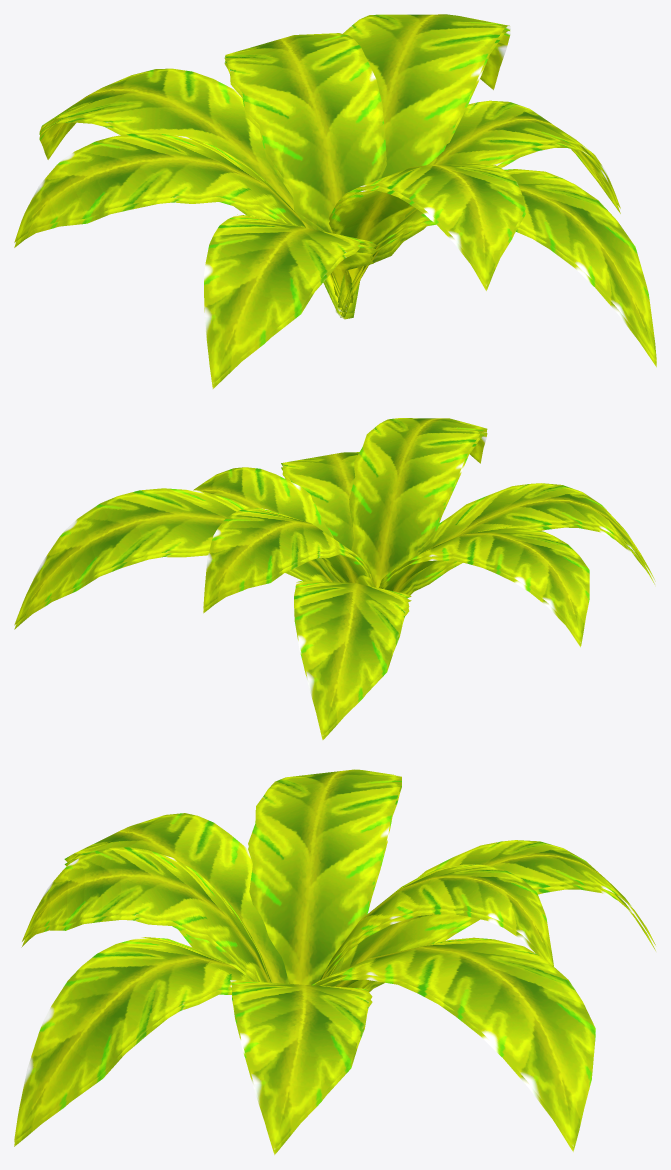
Rendered from SM-Plants-06.FBX.
3 views of the same model, one above another, from view 1: azimuth 30°, elevation 25°; view 2: azimuth 150°, elevation 25°; view 3: azimuth 270°, elevation 25° (orthographic). The views are drawn at different scales.
Parts seen in each view (by area): view 1: SM-Plants-06; view 2: SM-Plants-06; view 3: SM-Plants-06.
Boxes of the visible parts, bbox=[...] form: SM-Plants-06: bbox=[14, 14, 656, 389]; SM-Plants-06: bbox=[14, 418, 655, 740]; SM-Plants-06: bbox=[14, 769, 655, 1155].
Size of the model in its own units: 174 by 166 by 59.2.
Materials: 1 (1 with a texture image).
